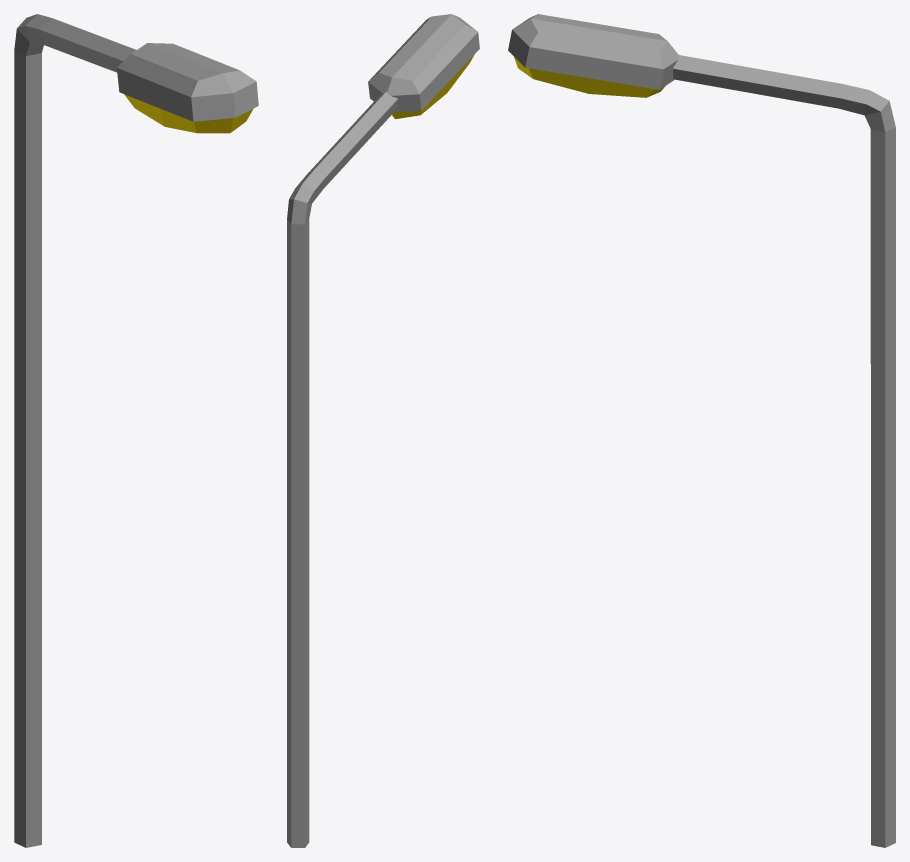
File: Street_Light.fbx
3 views of the same model, side by side, from view 1: azimuth 30°, elevation 25°; view 2: azimuth 150°, elevation 25°; view 3: azimuth 270°, elevation 25° (orthographic). The views are drawn at different scales.
Parts seen in each view (by area): view 1: Street_Light; view 2: Street_Light; view 3: Street_Light.
Boxes of the visible parts, x1,y1,x2,y2 form: Street_Light: (14, 14, 258, 847); Street_Light: (287, 14, 479, 847); Street_Light: (508, 14, 895, 847).
Bounding box in the file's own units: 0.1952 × 2.59 × 1.11.
